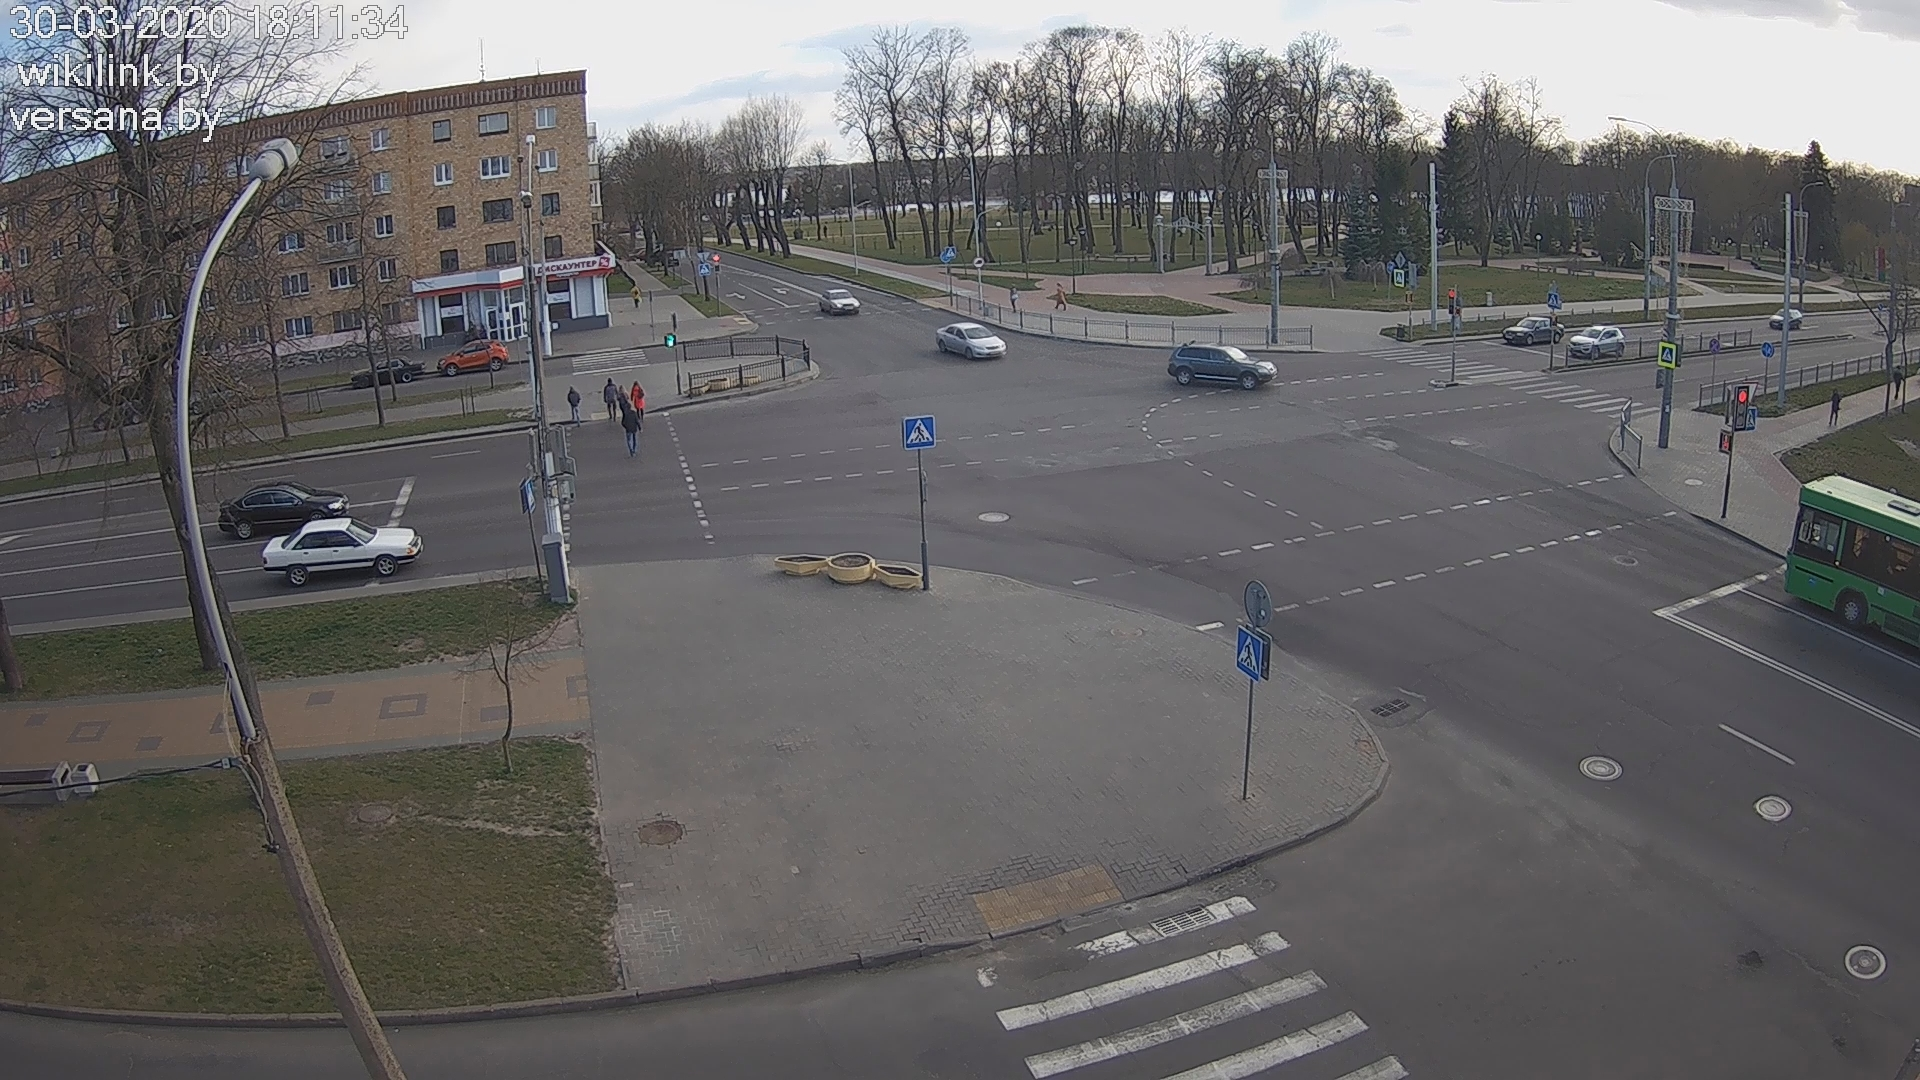car: (262, 516, 423, 587), (218, 481, 349, 539), (1167, 339, 1278, 392), (936, 320, 1007, 360), (436, 339, 509, 377), (351, 355, 426, 388), (1567, 324, 1626, 359), (1502, 316, 1565, 345), (819, 287, 861, 316)
